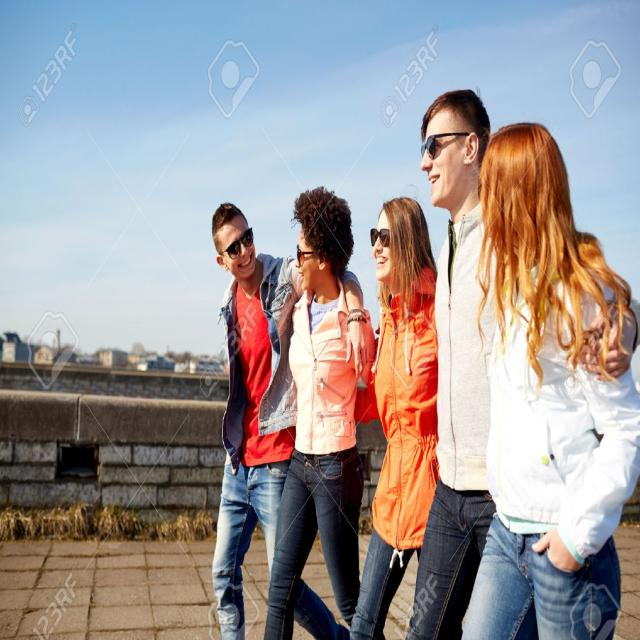body: (403, 85, 640, 640), (456, 110, 639, 640), (211, 202, 372, 640), (263, 184, 377, 640), (348, 193, 444, 639)
